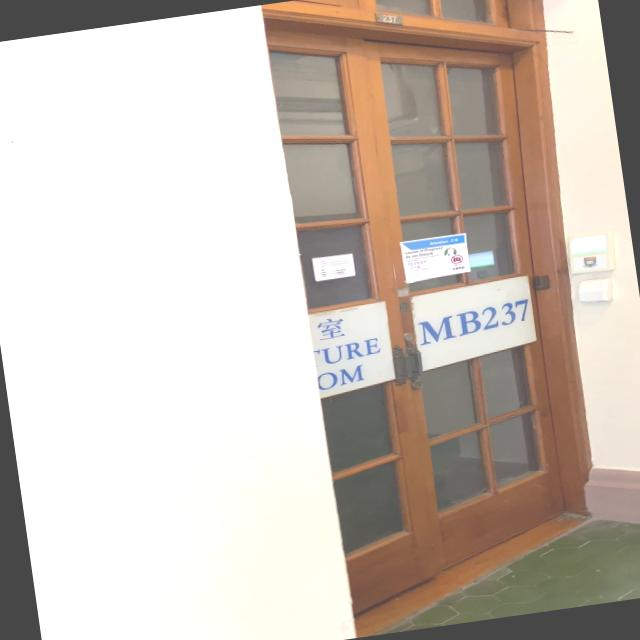room237: (370, 9, 406, 30)
room237Window: (415, 297, 534, 346)
